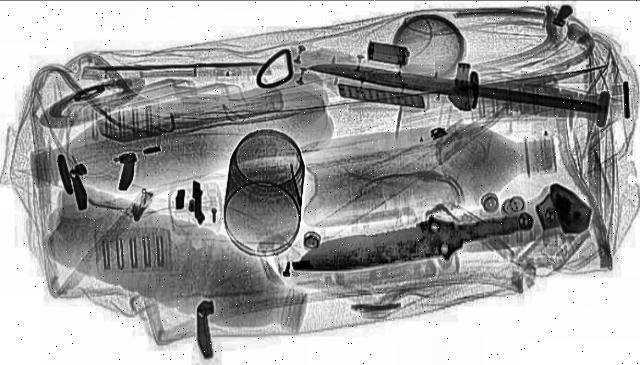Knife: (298, 51, 620, 127), (278, 202, 546, 288)
